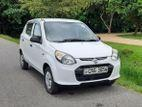car: (20, 18, 123, 96)
